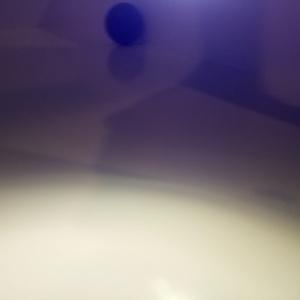dead_ball: (104, 2, 147, 47)
